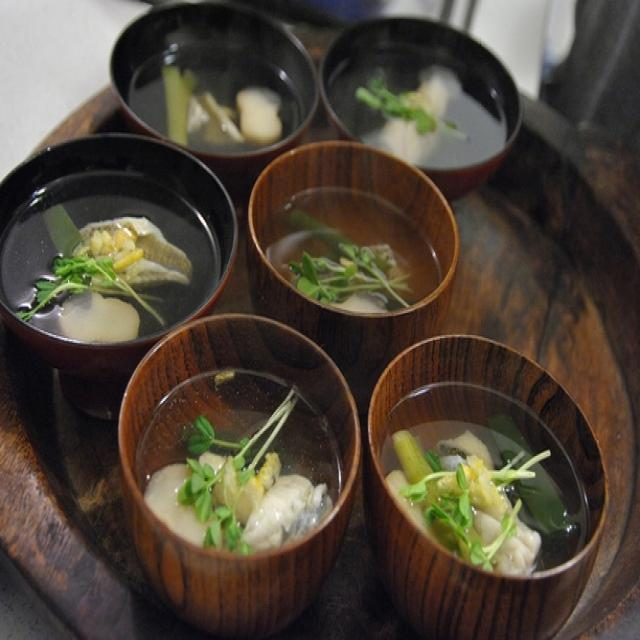汤锅炖物: (27, 16, 616, 591)
